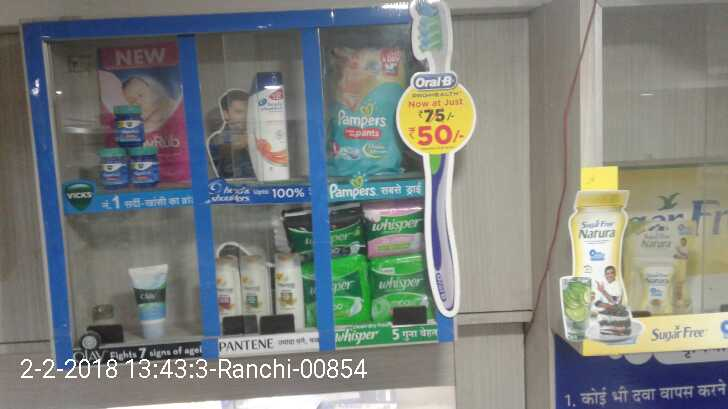beauty: (240, 68, 298, 183), (126, 257, 175, 341), (272, 247, 310, 335), (243, 250, 274, 332)
pharmacy: (323, 47, 411, 177), (372, 257, 435, 323), (362, 209, 438, 253), (110, 96, 148, 151), (94, 147, 128, 187), (130, 147, 160, 190)
